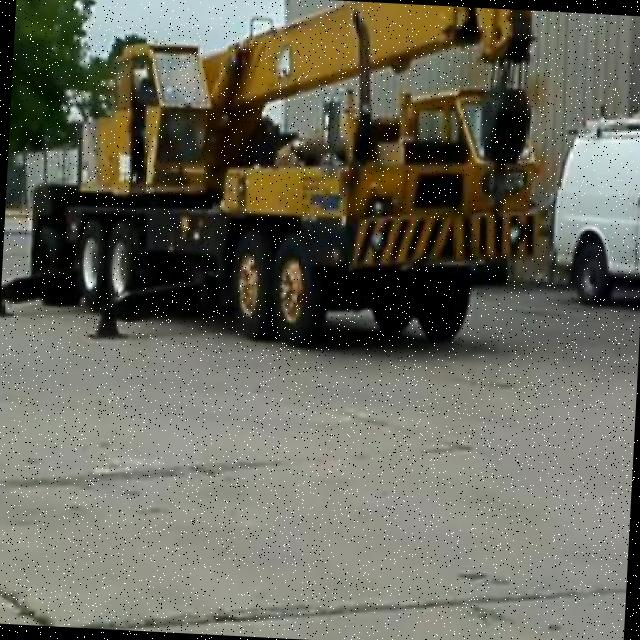Mobile Crane: (0, 0, 544, 357)
